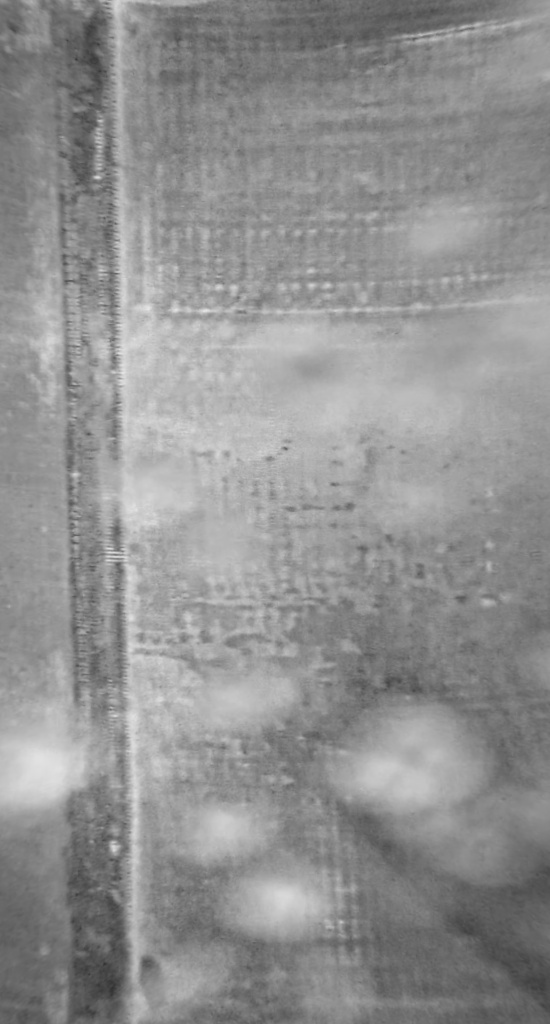splice: (53, 1, 140, 1024)
